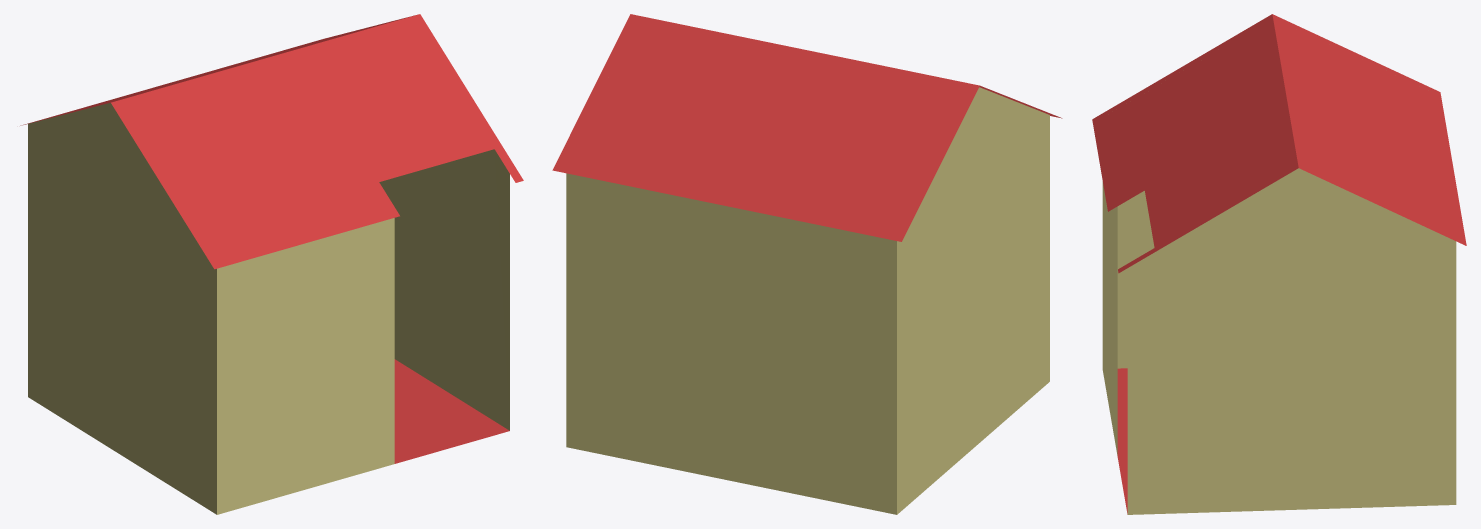
The picture shows the model from 3 angles, left to right: view 1: azimuth 30°, elevation 25°; view 2: azimuth 150°, elevation 25°; view 3: azimuth 270°, elevation 25°; orthographic projection. The views are drawn at different scales.
Bounding box in the file's own units: 10.06 × 9.66 × 9.84.
